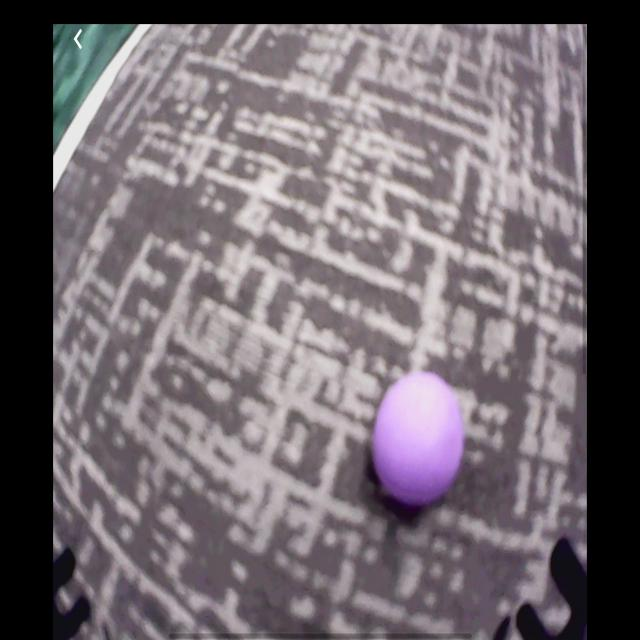ball: (372, 372, 464, 508)
